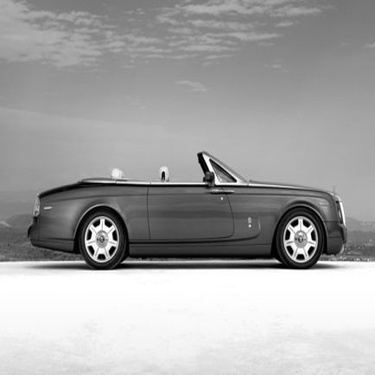car: (26, 152, 346, 273)
